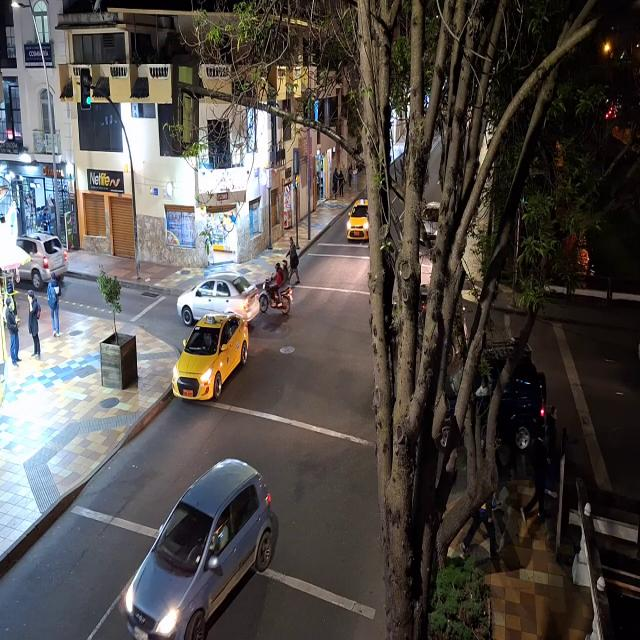MOTORCYCLE: (260, 282, 293, 316)
SED: (175, 316, 246, 400), (348, 200, 369, 240)
SUV: (125, 459, 267, 639), (15, 232, 70, 286)
